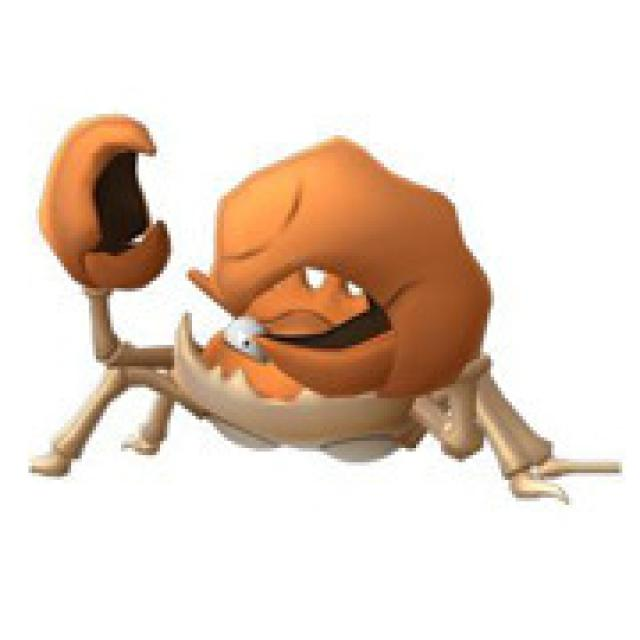Kingler: (52, 140, 510, 464)
